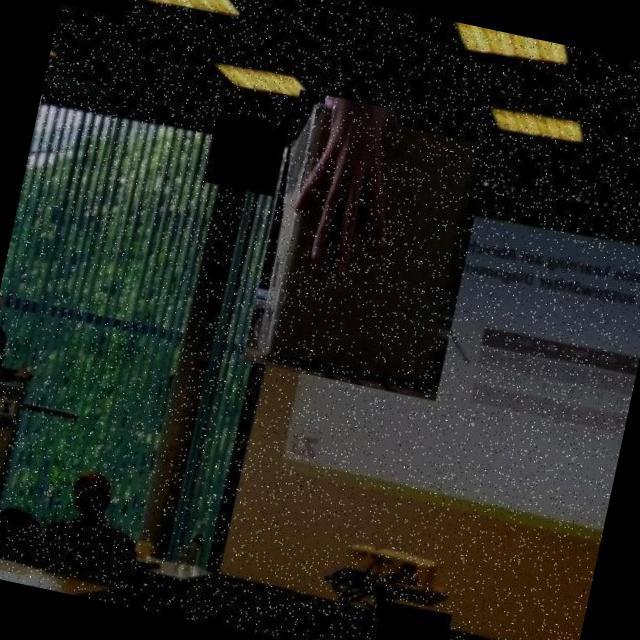box: (238, 85, 496, 407)
